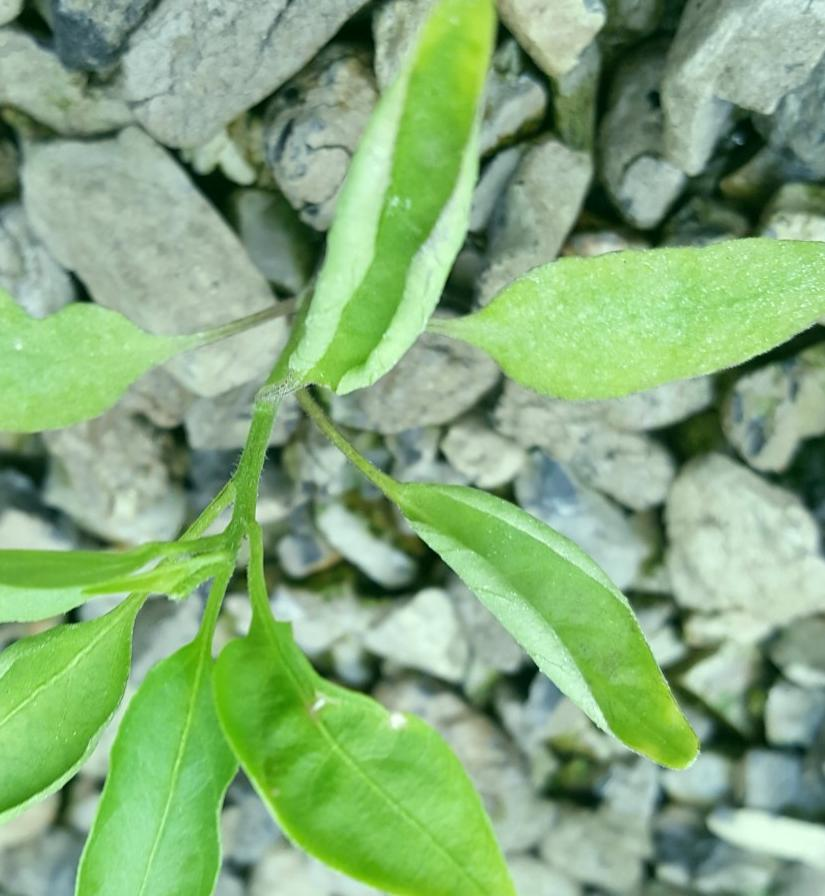Tomato leaf: (370, 468, 703, 780), (210, 621, 568, 896), (444, 217, 825, 410), (42, 594, 277, 896), (0, 281, 187, 440)
